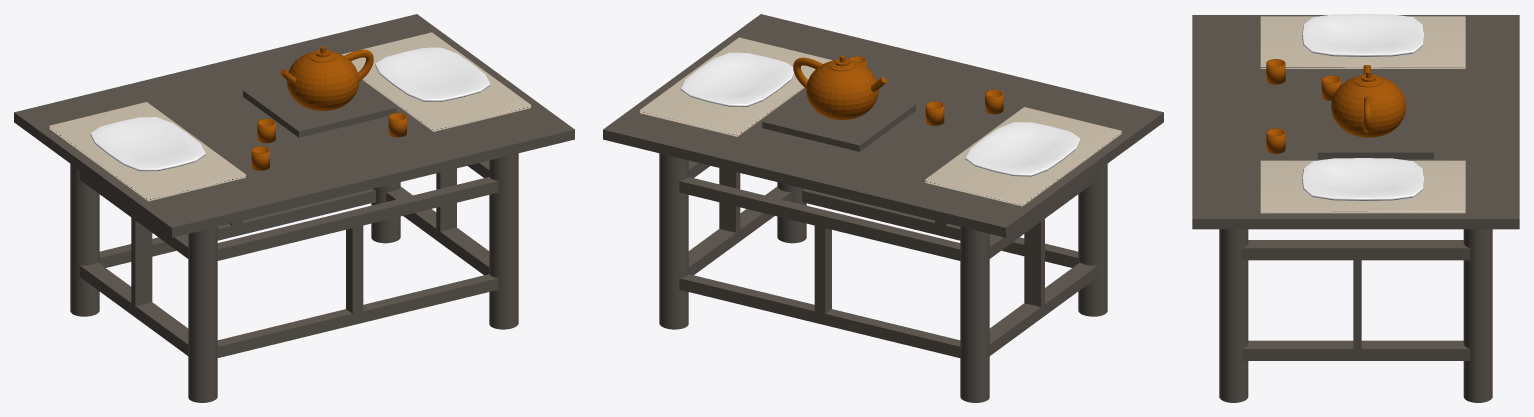
Rendered from Table.fbx.
3 renders of one model, left to right at view 1: azimuth 30°, elevation 25°; view 2: azimuth 150°, elevation 25°; view 3: azimuth 270°, elevation 25°, orthographic. The views are drawn at different scales.
Visible parts, largest first — view 1: Table, PlaceMats, Plate1, Plate2, TeapotStand, TeaPot; view 2: Table, PlaceMats, TeapotStand, Plate1, Plate2, TeaPot; view 3: Table, PlaceMats, Plate1, Plate2, TeapotStand, TeaPot, Teacup1, Teacup3, Teacup2.
Boxes of the visible parts, x1,y1,x2,y2 form: Table: [14, 14, 574, 402]; PlaceMats: [49, 32, 530, 201]; Plate1: [90, 117, 205, 171]; Plate2: [375, 47, 490, 102]; TeapotStand: [243, 80, 396, 137]; TeaPot: [280, 46, 373, 110]; Table: [603, 14, 1163, 402]; PlaceMats: [640, 37, 1121, 206]; TeapotStand: [762, 90, 915, 151]; Plate1: [965, 122, 1080, 176]; Plate2: [680, 52, 794, 107]; TeaPot: [793, 55, 886, 119]; Table: [1192, 15, 1519, 402]; PlaceMats: [1260, 16, 1465, 213]; Plate1: [1302, 14, 1424, 56]; Plate2: [1302, 158, 1424, 200]; TeapotStand: [1317, 103, 1433, 159]; TeaPot: [1331, 65, 1406, 137]; Teacup1: [1266, 59, 1285, 84]; Teacup3: [1266, 128, 1285, 153]; Teacup2: [1321, 75, 1340, 100].
Bounding box in the file's own units: 174 × 106 × 118.
